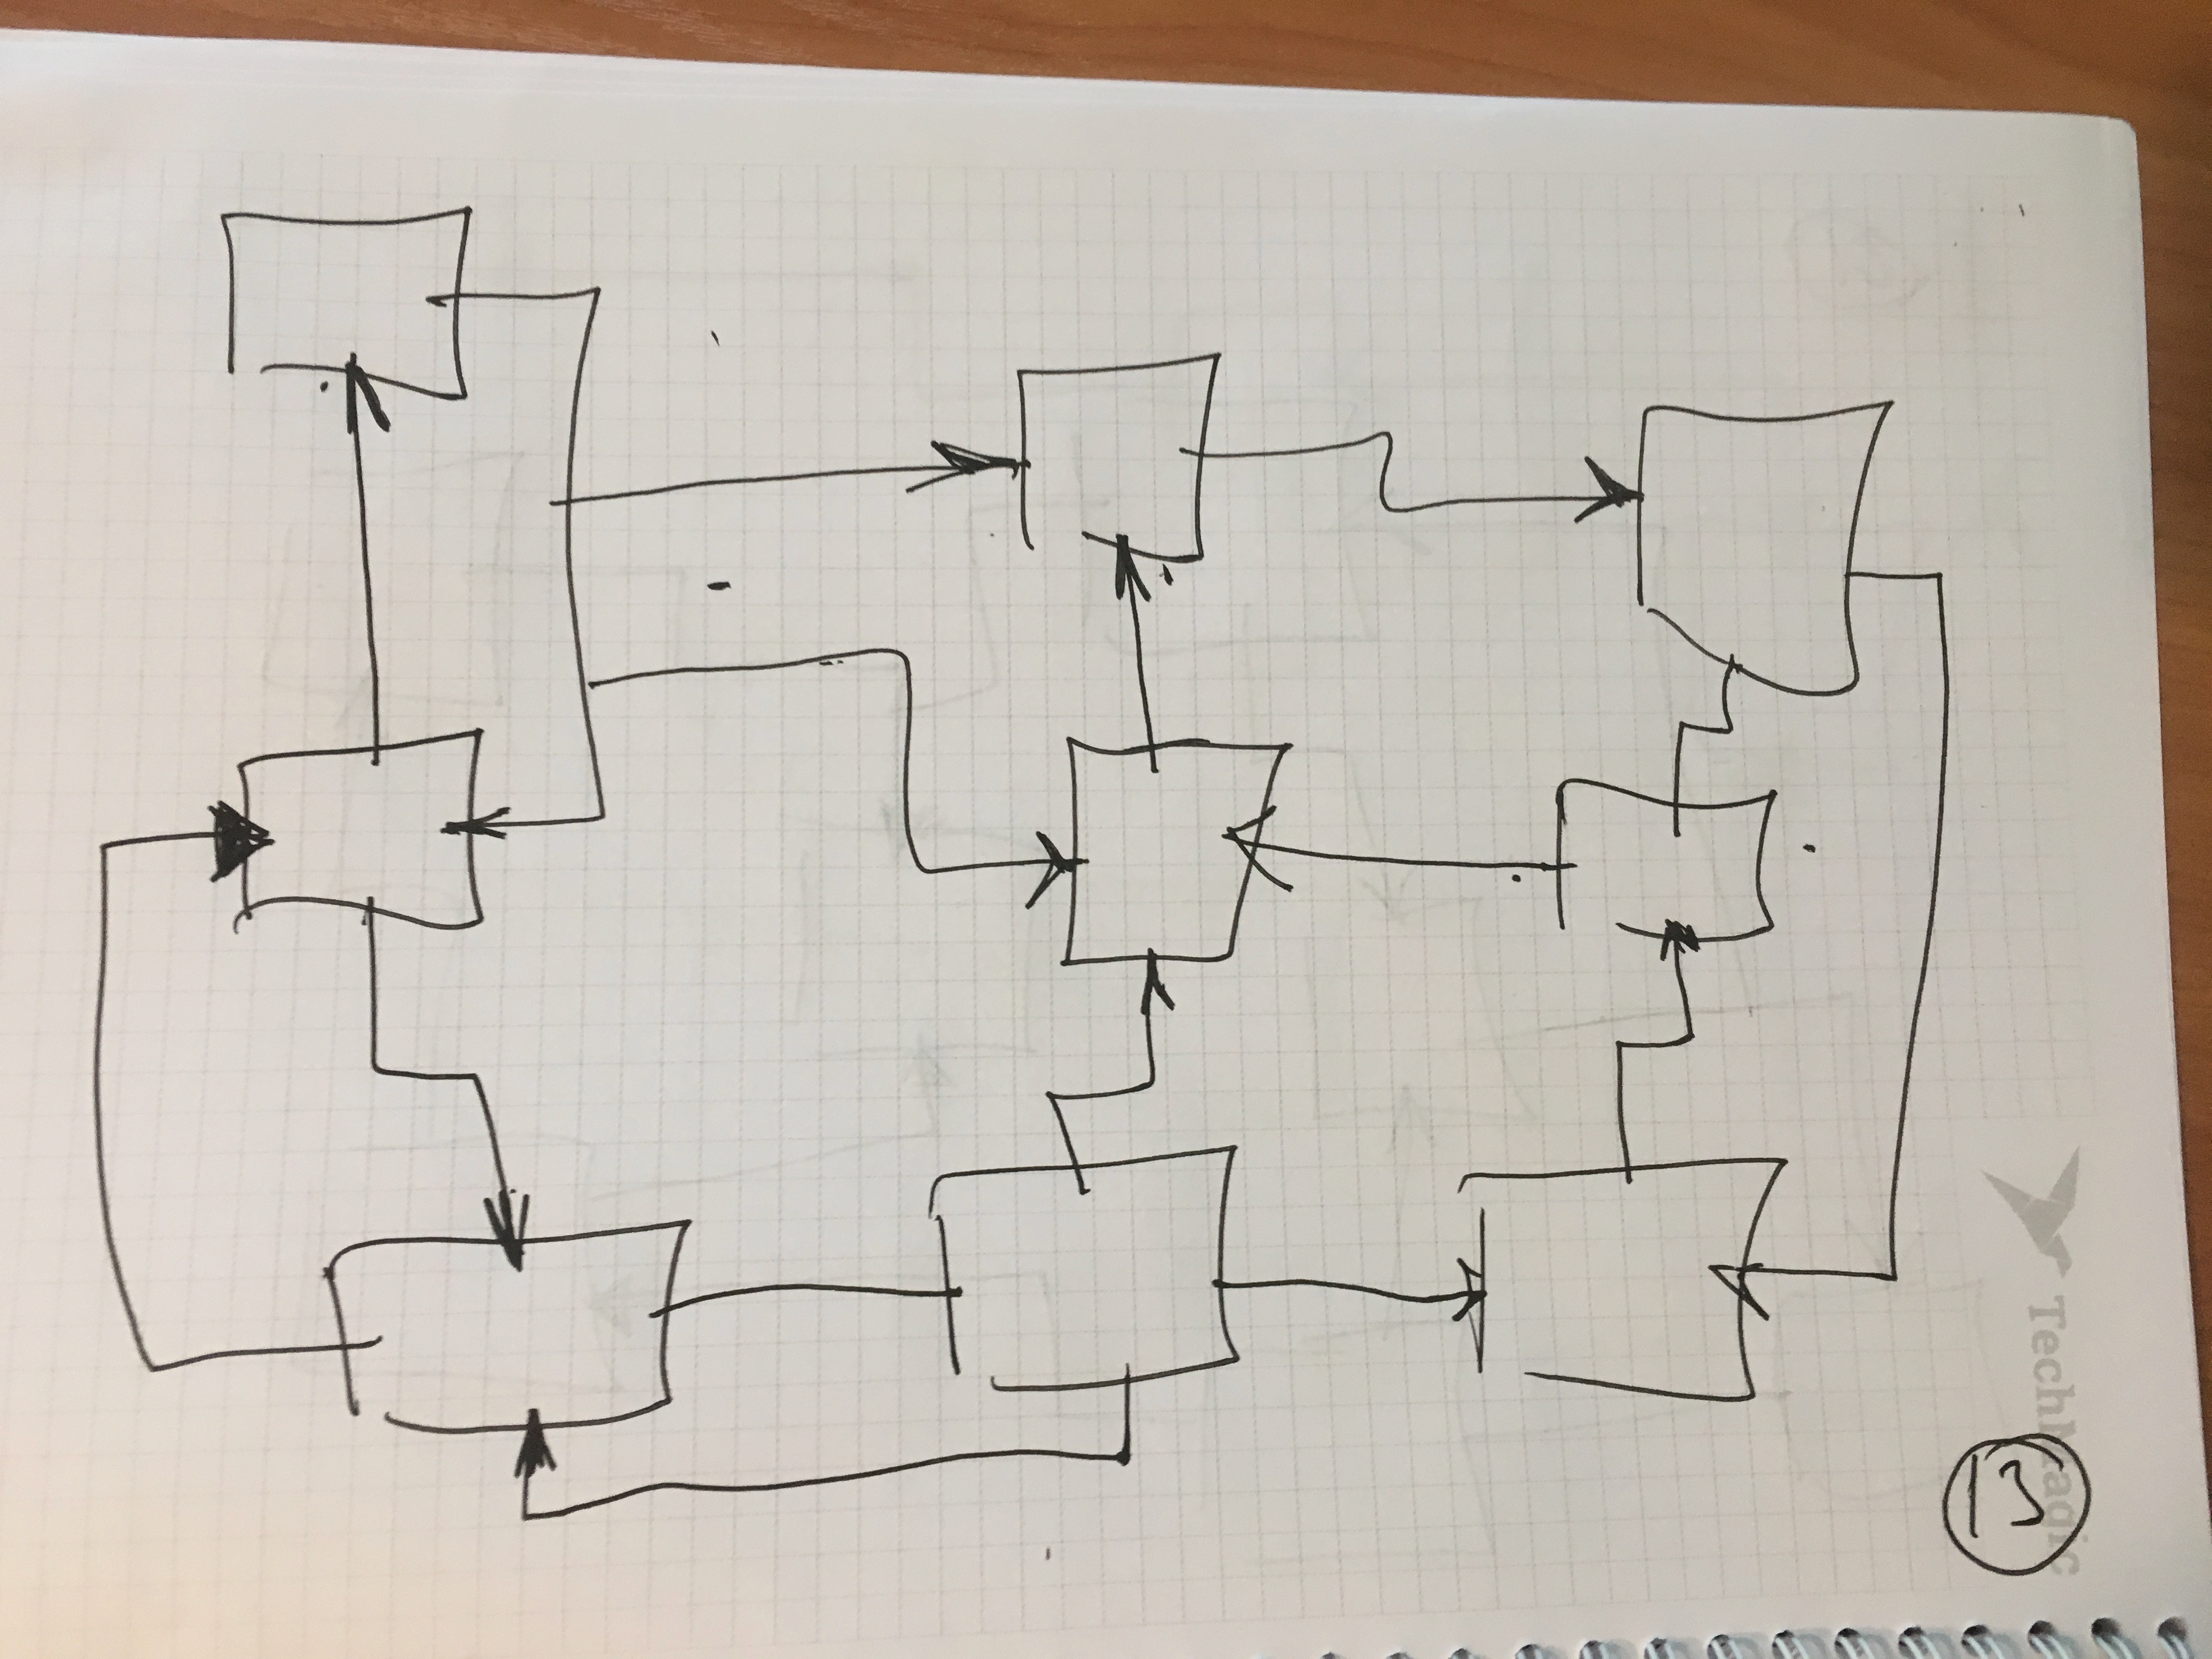arrow: (1211, 807, 1360, 892), (143, 807, 298, 887), (956, 835, 1106, 913), (320, 350, 404, 471), (1533, 458, 1658, 538), (894, 436, 1045, 500), (472, 1164, 552, 1283), (1374, 1260, 1515, 1323), (1101, 519, 1165, 652), (1702, 1251, 1808, 1323), (1125, 936, 1183, 1049), (435, 795, 540, 852), (1649, 911, 1712, 1002), (510, 1406, 557, 1511)
